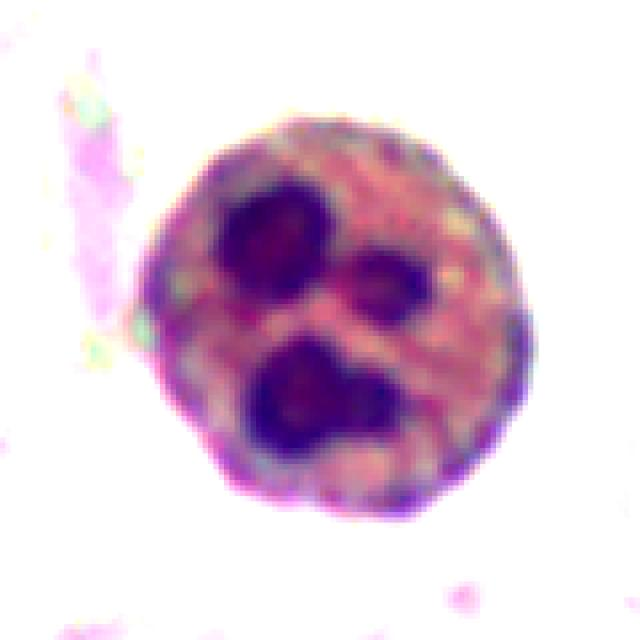WBC: (115, 101, 548, 534)
